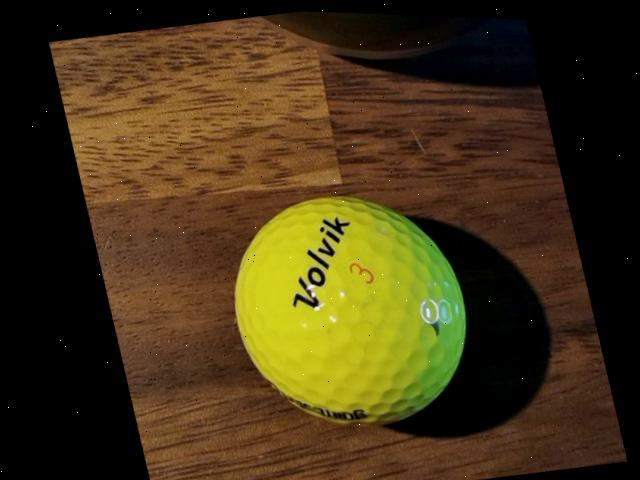Ball: (206, 174, 486, 445)
Volvik: (270, 211, 365, 314)
